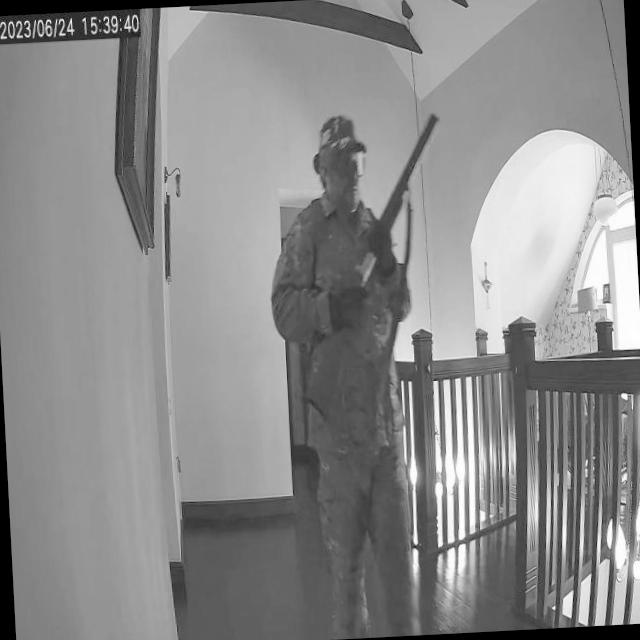gun: (295, 112, 460, 418)
person with a gun: (262, 109, 480, 640)
